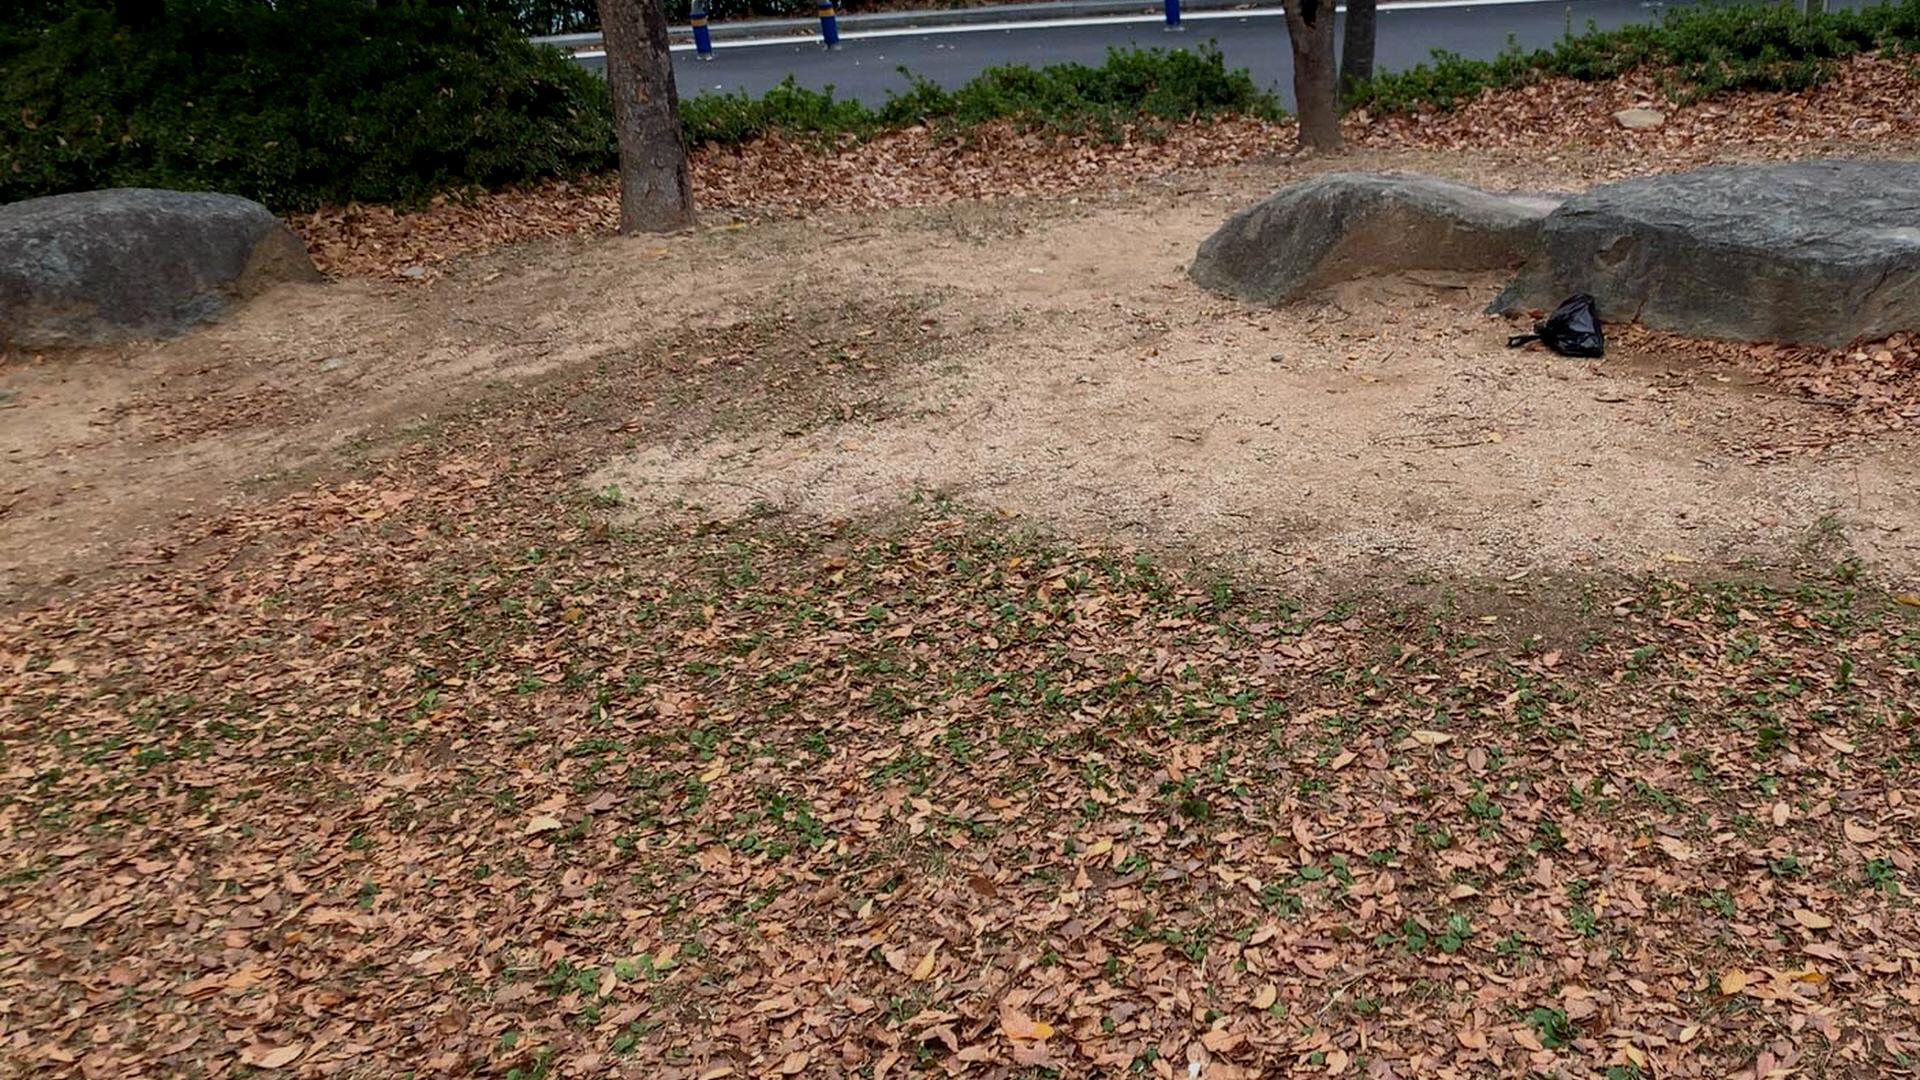black_bag: (1501, 287, 1609, 363)
